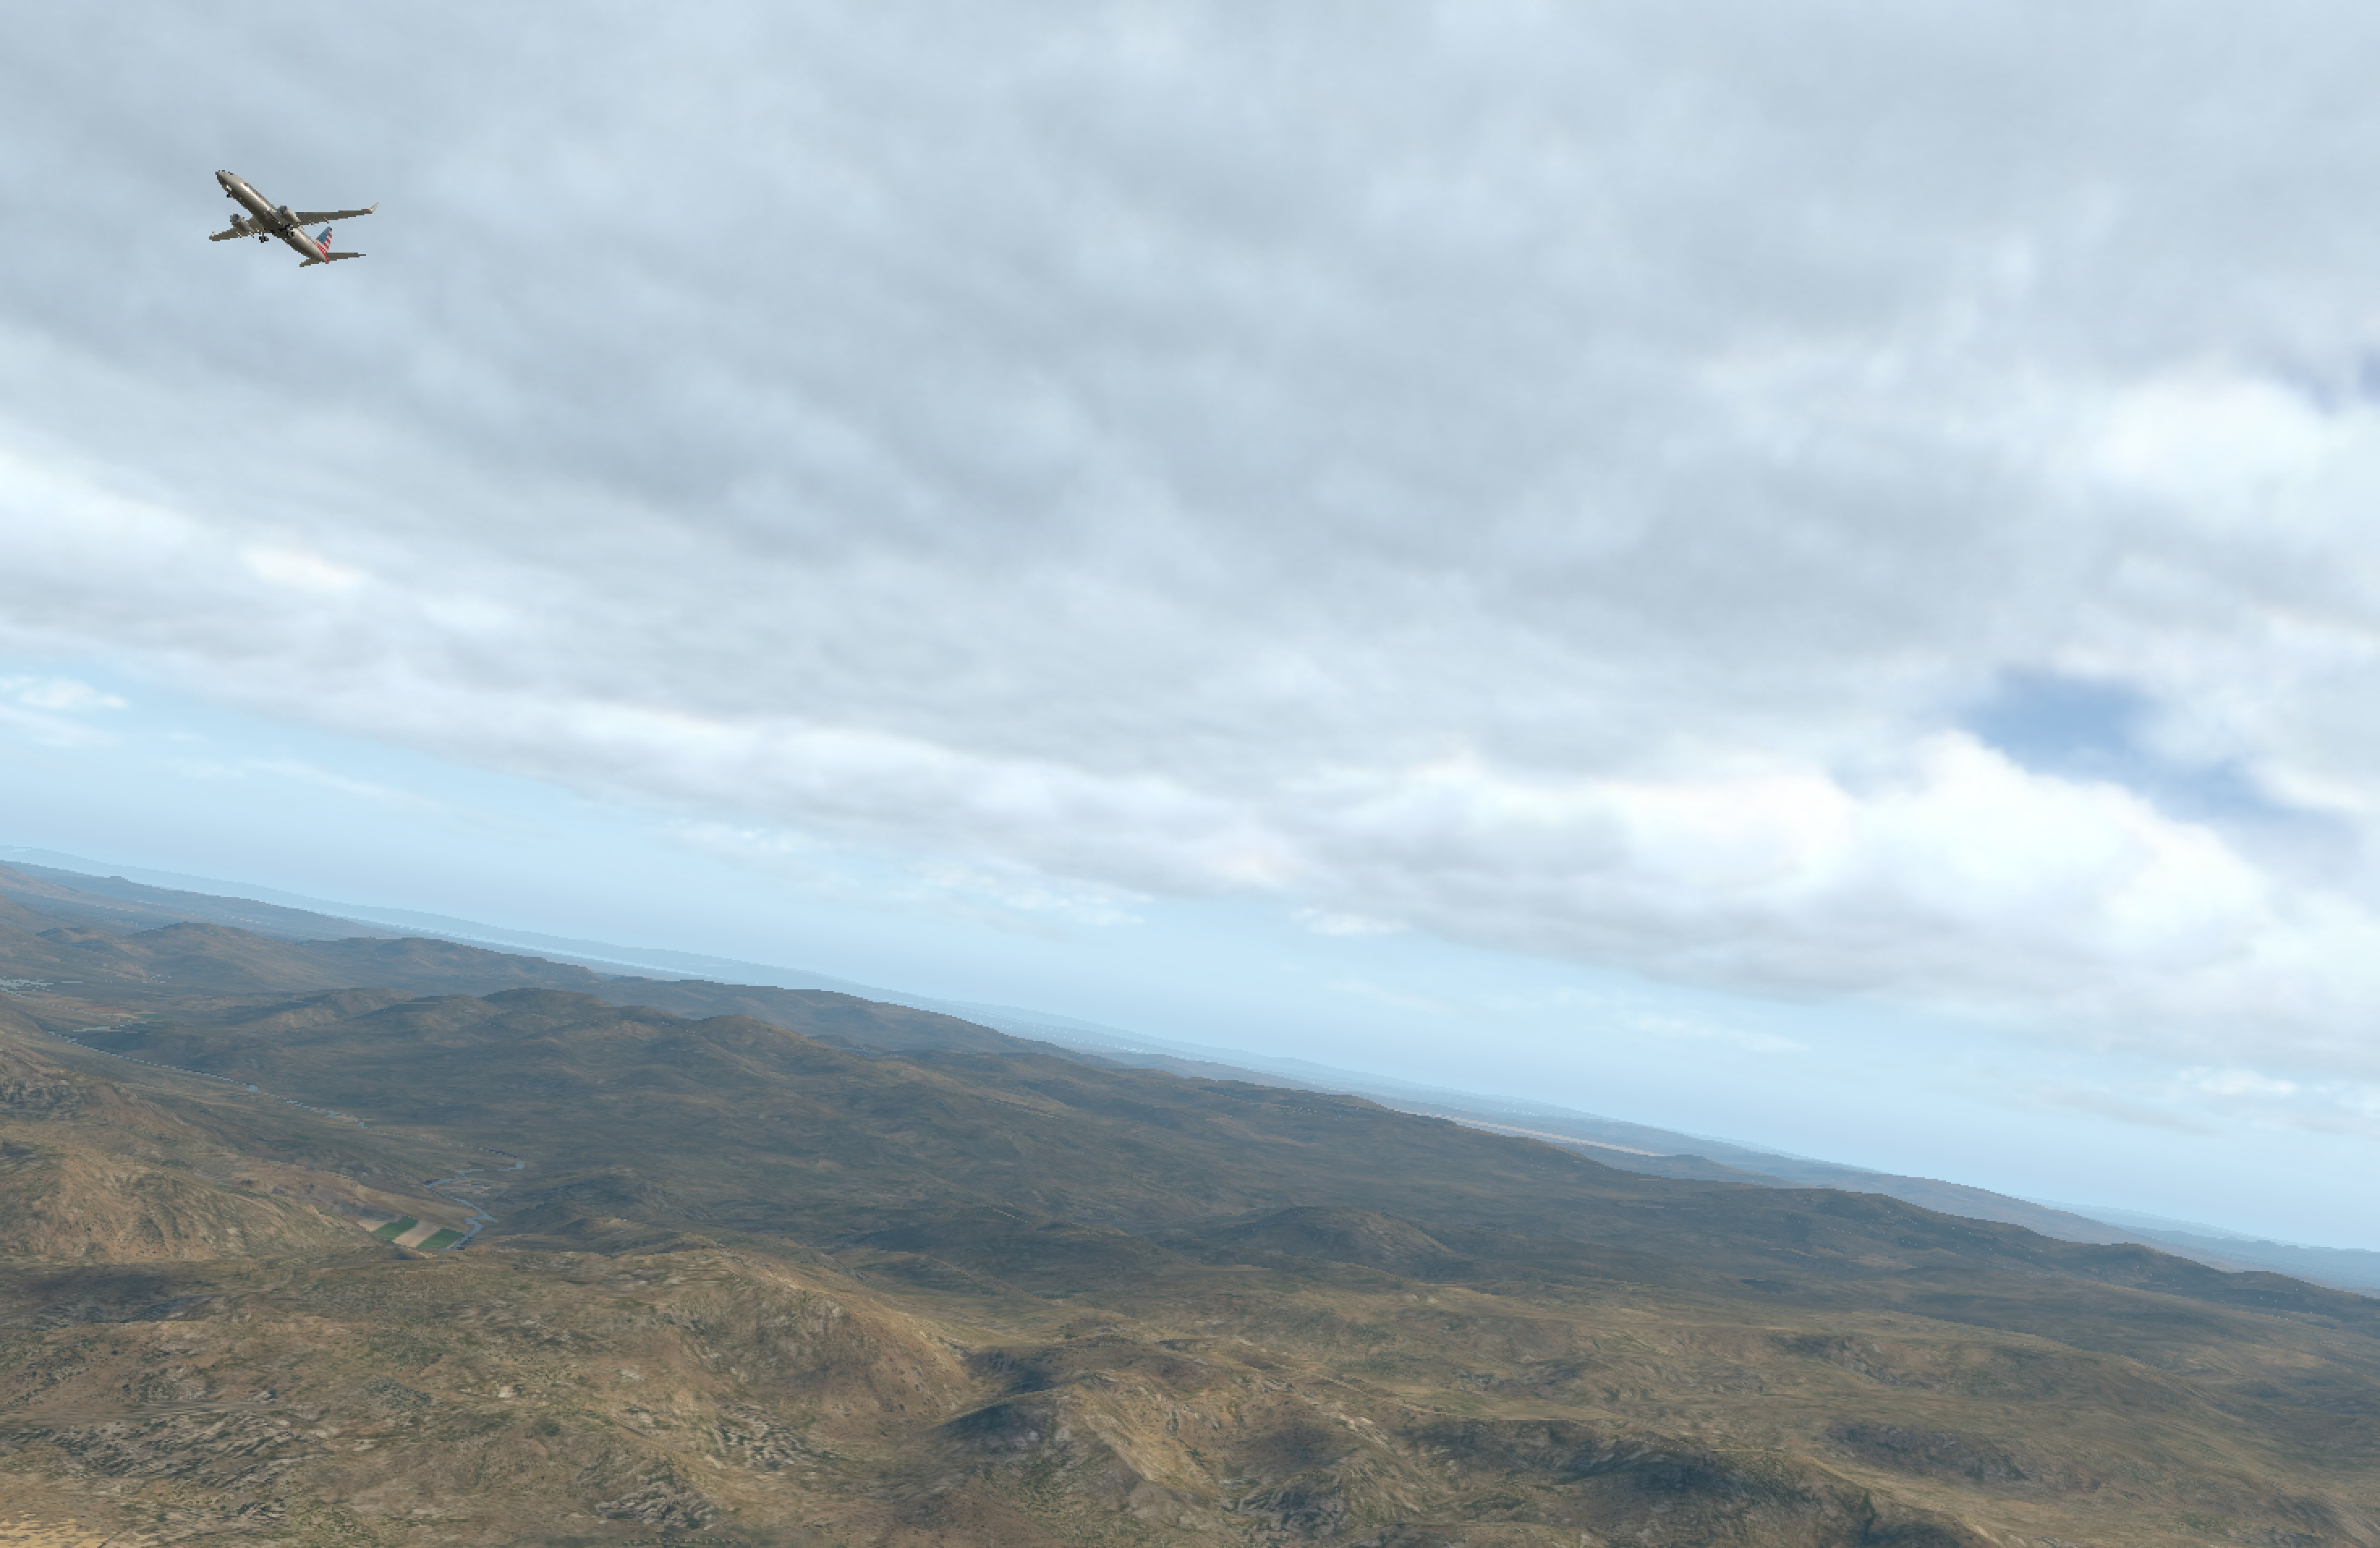aircraft: (184, 187, 363, 255)
